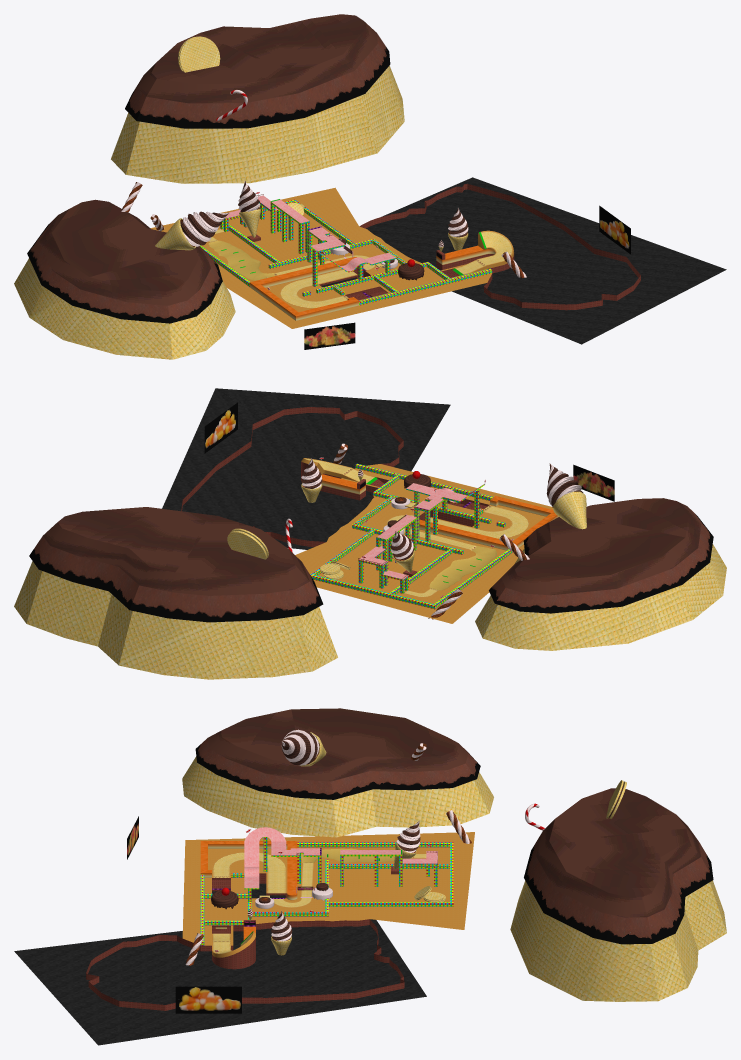
3 views of the same model, one above another, from view 1: azimuth 30°, elevation 25°; view 2: azimuth 150°, elevation 25°; view 3: azimuth 270°, elevation 25° (orthographic). The views are drawn at different scales.
Visible parts, largest first — view 1: _1pinkMesh, _1pink.008Mesh, choco-animMesh, chocoedgeMesh, _1pink.003Mesh, _1pink.007Mesh, _1pink.013Mesh, _1pink.005Mesh, _1pink.015Mesh, _1pink.001Mesh, _1pink.009Mesh, _1pink.004Mesh (+3 smaller); view 2: _1pinkMesh, _1pink.008Mesh, choco-animMesh, chocoedgeMesh, _1pink.003Mesh, _1pink.007Mesh, _1pink.013Mesh, _1pink.005Mesh, _1pink.015Mesh, _1pink.001Mesh, _1pink.002Mesh, _1pink.004Mesh (+4 smaller); view 3: _1pink.008Mesh, choco-animMesh, _1pinkMesh, _1pink.003Mesh, chocoedgeMesh, _1pink.007Mesh, _1pink.013Mesh, _1pink.005Mesh, _1pink.001Mesh, _1pink.015Mesh, candycornMesh, _1pink.004Mesh (+1 smaller).
Part boxes in pixels (x1,y1,x2,y2): _1pinkMesh: (14,36,468,359); _1pink.008Mesh: (39,14,467,305); choco-animMesh: (321,177,726,344); chocoedgeMesh: (27,33,390,323); _1pink.003Mesh: (150,187,513,328); _1pink.007Mesh: (200,199,492,305); _1pink.013Mesh: (247,183,640,310); _1pink.005Mesh: (208,229,513,308); _1pink.015Mesh: (121,90,526,277); _1pink.001Mesh: (226,195,395,271); _1pink.009Mesh: (249,249,495,320); _1pink.004Mesh: (250,245,483,316); _1pinkMesh: (14,475,726,679); _1pink.008Mesh: (43,458,701,595); choco-animMesh: (162,388,463,549); chocoedgeMesh: (29,507,713,622); _1pink.003Mesh: (295,458,553,623); _1pink.007Mesh: (310,463,512,609); _1pink.013Mesh: (181,407,489,576); _1pink.005Mesh: (303,458,529,597); _1pink.015Mesh: (285,443,581,615); _1pink.001Mesh: (359,483,483,578); _1pink.002Mesh: (429,545,496,590); _1pink.004Mesh: (321,474,556,545); _1pink.008Mesh: (208,708,700,940); choco-animMesh: (14,883,426,1045); _1pinkMesh: (182,732,726,1001); _1pink.003Mesh: (182,832,474,957); chocoedgeMesh: (195,738,713,944); _1pink.007Mesh: (200,837,453,945); _1pink.013Mesh: (86,866,404,1010); _1pink.005Mesh: (212,852,426,953); _1pink.001Mesh: (244,827,437,893); _1pink.015Mesh: (185,729,544,965); candycornMesh: (175,986,241,1013); _1pink.004Mesh: (200,841,297,940).
Size of what is drawn, in the model's own units: 18864 by 4102 by 19358.
27 materials, 27 textured.
